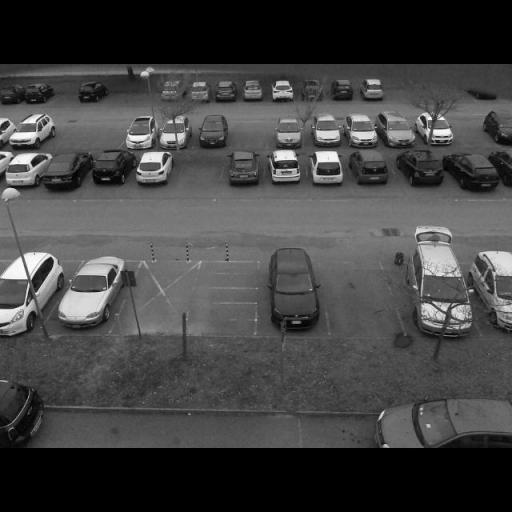busy: (377, 395, 512, 447), (264, 244, 328, 330), (56, 257, 128, 327), (2, 251, 62, 335), (2, 381, 46, 445), (444, 153, 506, 194), (475, 252, 511, 319), (416, 305, 474, 337), (400, 151, 450, 187), (39, 156, 89, 191), (8, 115, 59, 149), (350, 151, 396, 187), (90, 151, 136, 185), (308, 151, 350, 187), (132, 152, 175, 186), (5, 154, 49, 187), (225, 151, 265, 187), (378, 114, 420, 148), (344, 112, 384, 146), (267, 150, 306, 184), (195, 116, 234, 150), (308, 112, 346, 146), (121, 117, 159, 150), (160, 118, 196, 151), (271, 118, 310, 148), (422, 115, 456, 146), (484, 110, 512, 146), (77, 82, 112, 105), (21, 83, 56, 104), (270, 81, 300, 103), (359, 80, 388, 102), (328, 80, 357, 101), (494, 154, 512, 187), (299, 80, 325, 102), (160, 82, 188, 102), (466, 87, 500, 103), (240, 80, 267, 100), (0, 85, 27, 105), (214, 81, 240, 101), (189, 82, 214, 102), (1, 120, 15, 149), (2, 152, 12, 182)
free: (134, 403, 270, 442), (335, 262, 401, 332), (183, 156, 225, 190), (58, 116, 90, 153), (452, 116, 486, 146), (97, 120, 124, 152), (236, 126, 272, 148), (51, 80, 80, 106), (126, 82, 157, 105), (104, 82, 131, 105), (386, 80, 414, 101), (440, 83, 467, 104), (417, 84, 442, 103)
